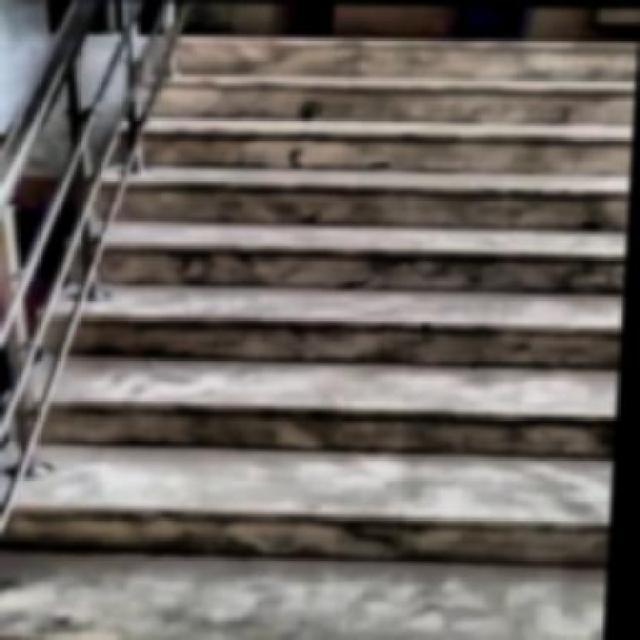stair: (71, 23, 637, 639)
